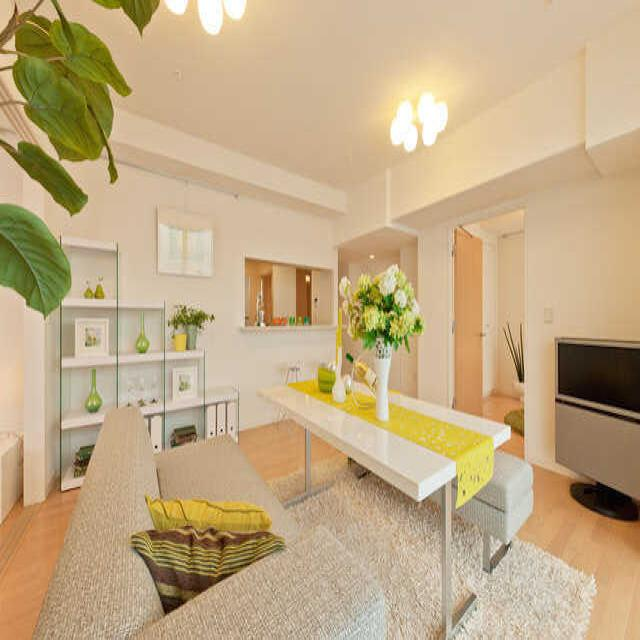modern desk: (265, 356, 502, 640)
modern sofa: (38, 394, 396, 640)
